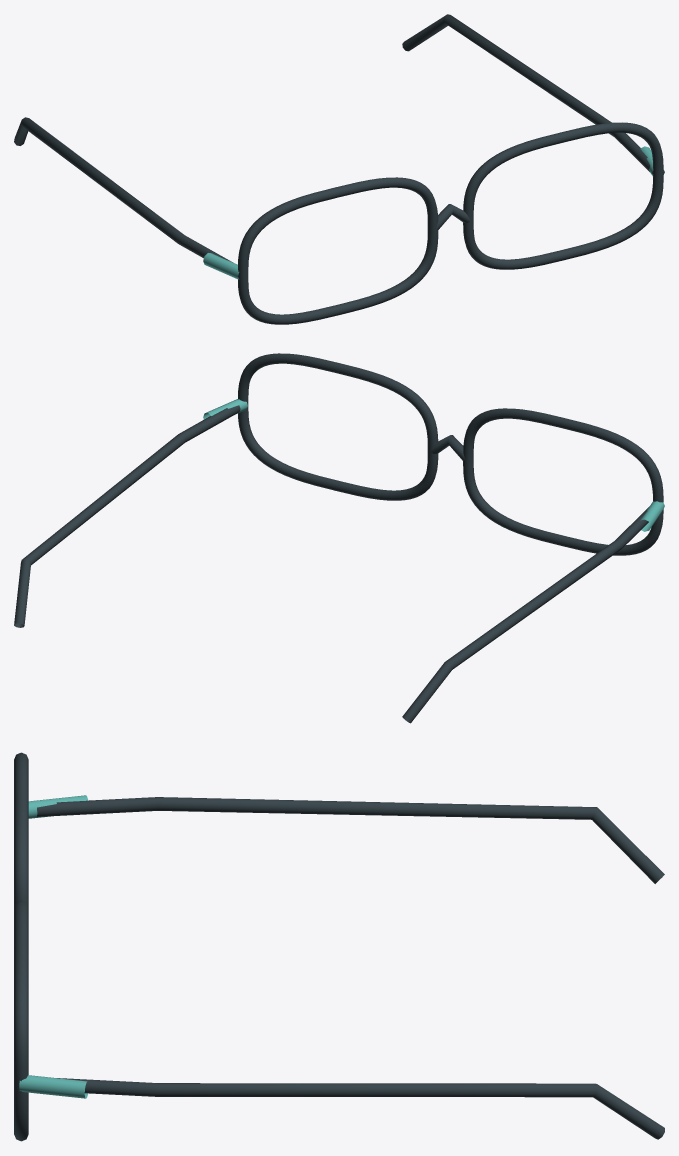
File: studio-glasses-v1.glb
3 renders of one model, top to bottom at view 1: azimuth 30°, elevation 25°; view 2: azimuth 150°, elevation 25°; view 3: azimuth 270°, elevation 25°, orthographic. The views are drawn at different scales.
Visible parts, largest first — view 1: LeftFrame, RightFrame, Temple1, Temple-1, Hinge-1; view 2: RightFrame, LeftFrame, Temple1, Temple-1; view 3: Temple-1, Temple1, RightFrame, LeftFrame, Hinge1.
Part boxes in pixels (box(x1,y1,x2,y2)): LeftFrame: box(238, 177, 438, 324); RightFrame: box(463, 122, 663, 269); Temple1: box(402, 14, 653, 174); Temple-1: box(14, 117, 232, 262); Hinge-1: box(203, 253, 239, 279); RightFrame: box(238, 353, 438, 500); LeftFrame: box(463, 408, 663, 555); Temple1: box(14, 405, 240, 627); Temple-1: box(402, 506, 649, 723); Temple-1: box(37, 797, 664, 883); Temple1: box(57, 1078, 664, 1139); RightFrame: box(14, 900, 28, 1141); LeftFrame: box(14, 752, 28, 906); Hinge1: box(19, 1075, 88, 1098).
Bounding box in the file's own units: 0.1273 × 0.0347 × 0.1192.
